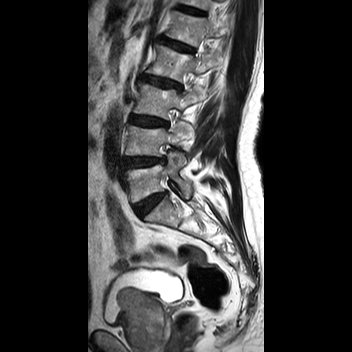RFS0: (157, 104, 182, 138)
RFS3: (151, 139, 180, 174)
